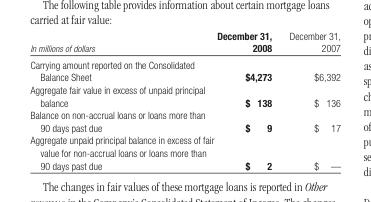table: (29, 28, 340, 170)
table column: (29, 28, 214, 170), (214, 28, 280, 170), (280, 28, 340, 170)
table column header: (29, 28, 340, 55)
table row: (29, 133, 340, 170), (29, 55, 340, 83), (29, 28, 340, 55), (29, 83, 340, 108), (29, 108, 340, 133)
